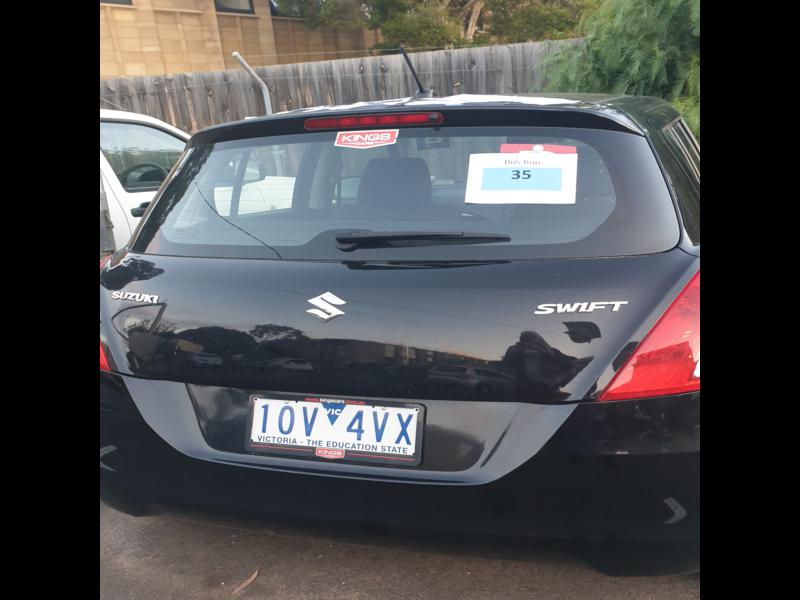BusRun: (479, 166, 564, 189)
PlateNo: (249, 391, 416, 453)
